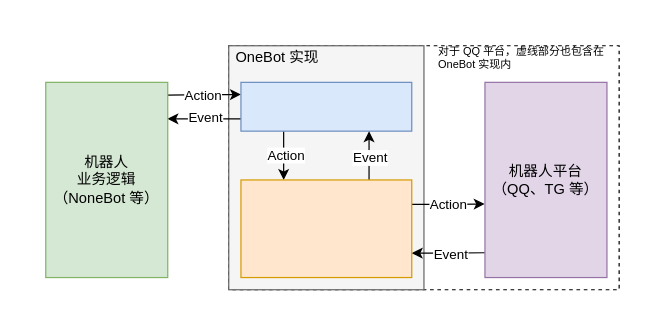
Some shapes in this 664 by 334 pixel diagram are drawn without their labels. Each missing label, with the centre of its shape:
"Event 和 Action 转换逻辑" goes at point (326, 228).
"libonebot" goes at point (326, 106).
